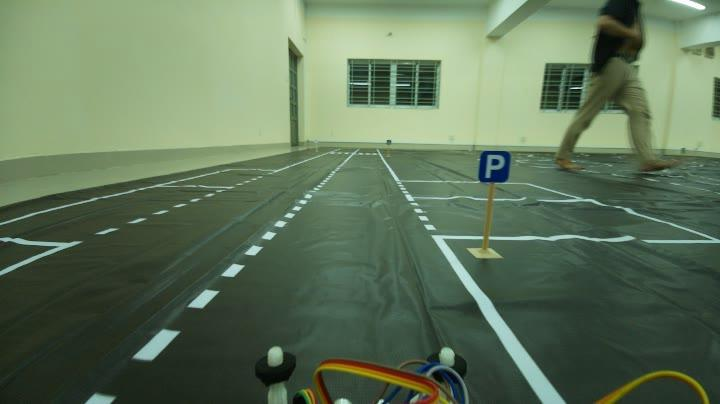parking: (473, 144, 514, 185)
